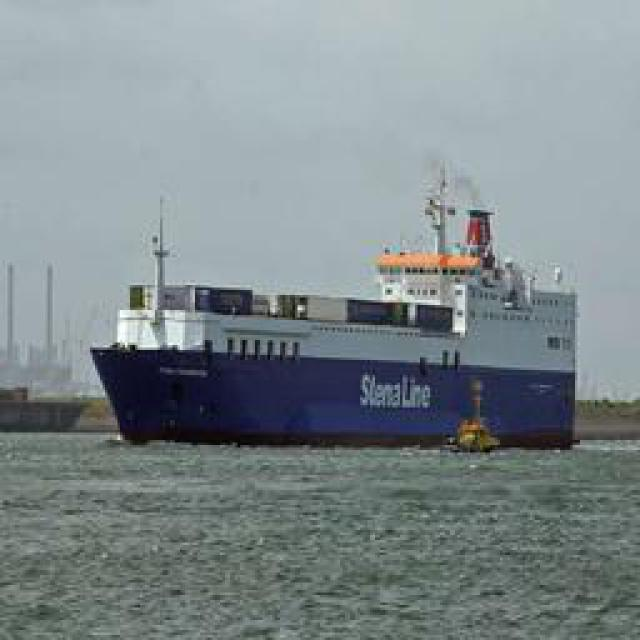Ship: (87, 157, 575, 455)
